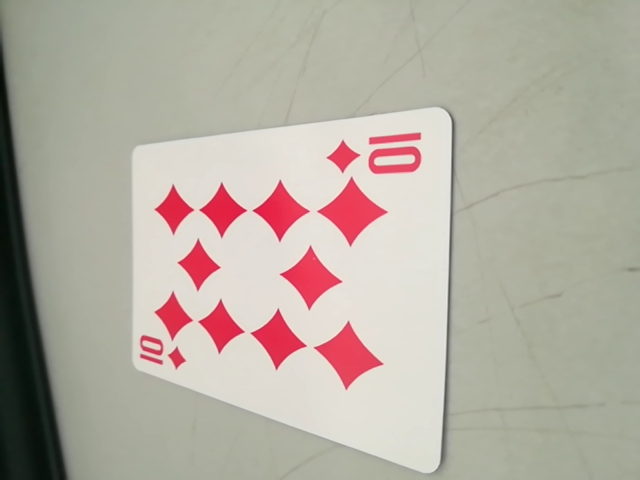fk 10: (328, 124, 432, 182), (130, 331, 194, 378)
